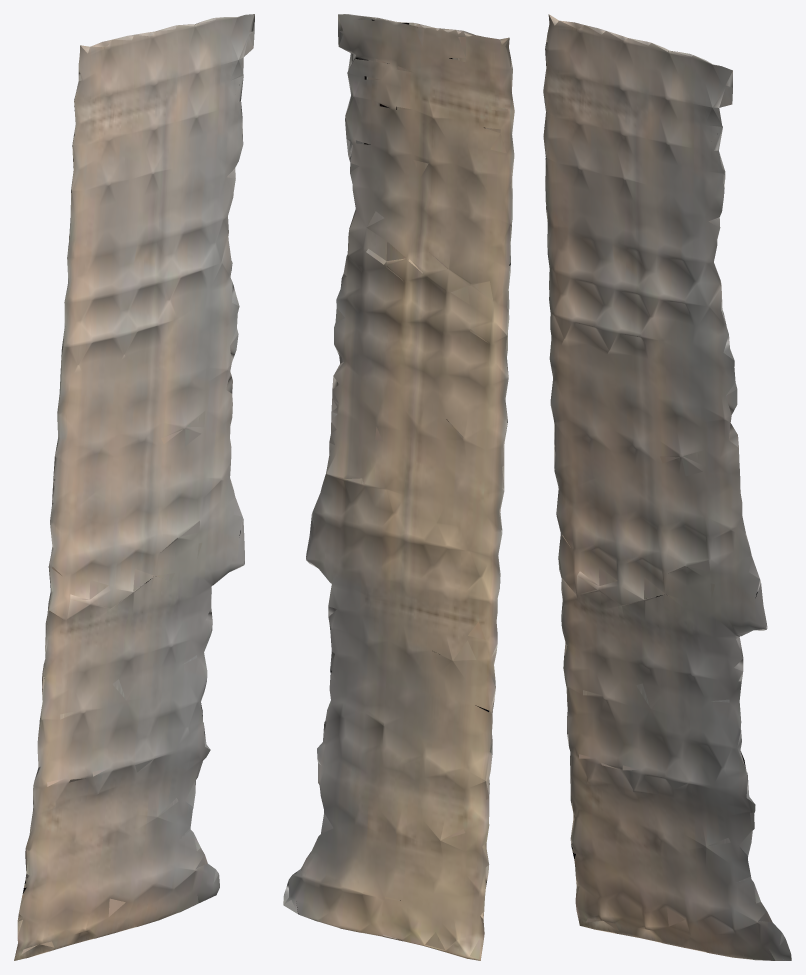
The picture shows the model from 3 angles, left to right: view 1: azimuth 30°, elevation 25°; view 2: azimuth 150°, elevation 25°; view 3: azimuth 330°, elevation 25°; orthographic projection. The views are drawn at different scales.
Visible parts, largest first — view 1: world; view 2: world; view 3: world.
Part boxes in pixels (x1,y1,x2,y2): world: (14,14,254,960); world: (283,14,514,960); world: (543,14,791,960).
Size of the model in its own units: 0.2084 by 0.9021 by 0.0955.
Materials: 1 (1 with a texture image).
